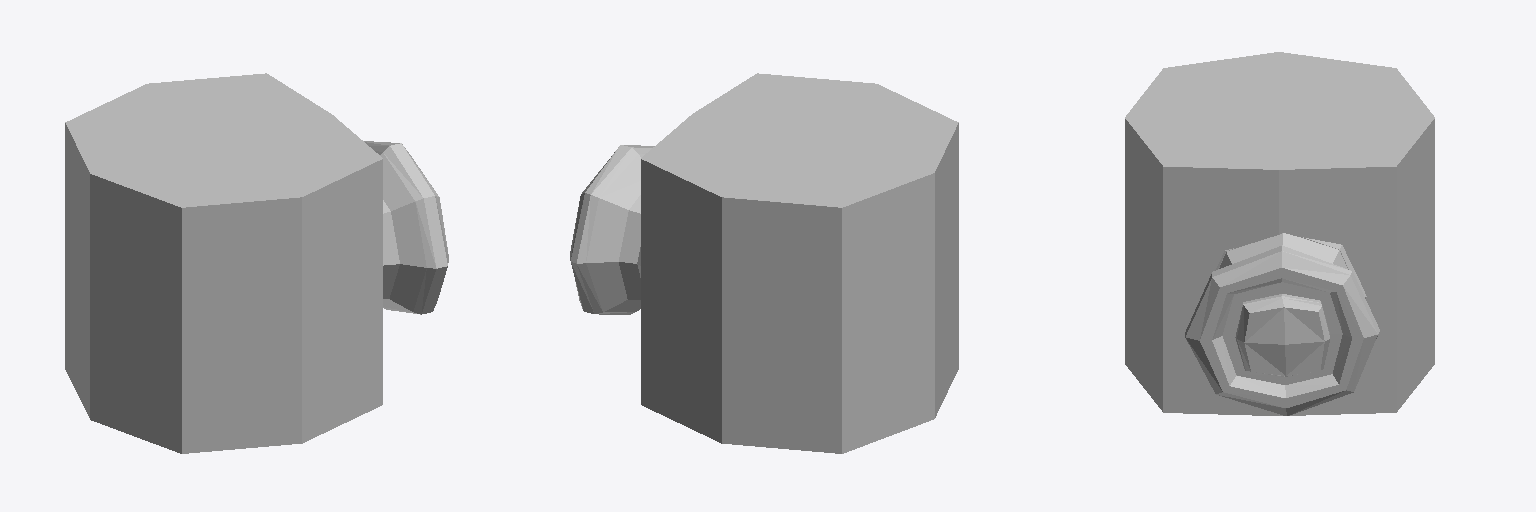
The model's file is Tentacle_update_single_03.obj.
The picture shows the model from 3 angles: view 1: azimuth 30°, elevation 25°; view 2: azimuth 150°, elevation 25°; view 3: azimuth 270°, elevation 25°; orthographic projection.
Parts seen in each view (by area): view 1: Single_tentacle:pCube12; view 2: Single_tentacle:pCube12; view 3: Single_tentacle:pCube12.
Boxes of the visible parts, x1,y1,x2,y2 form: Single_tentacle:pCube12: [65, 73, 448, 453]; Single_tentacle:pCube12: [570, 73, 958, 453]; Single_tentacle:pCube12: [1125, 52, 1434, 415].
Bounding box in the file's own units: 4.05 × 2.87 × 3.28.